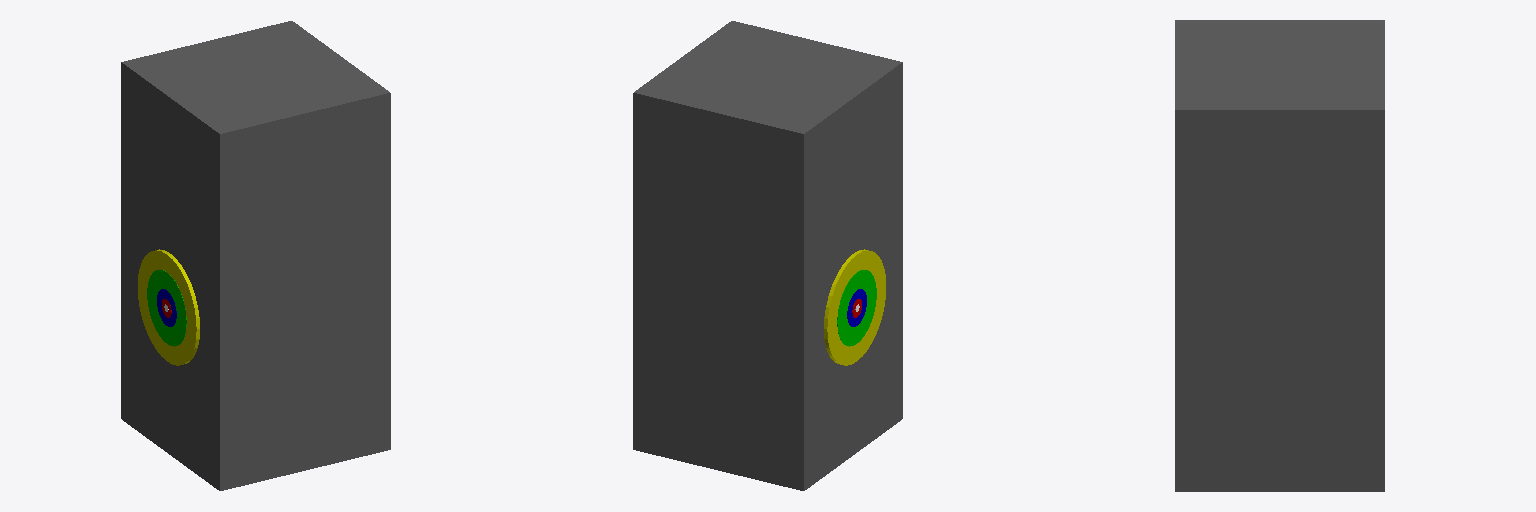
URDF robot description (simple_box):
<?xml version="1.0"?>
<robot name="simple_box">
	<material name="white">
		<color rgba="1 1 1 1"/>
	</material>

	<material name="blue">
		<color rgba= "0 0 0.8 1"/>
	</material>

	<material name="red">
		<color rgba="0.8 0 0 1"/>
	</material>

	<material name="green">
		<color rgba="0 0.8 0 1"/>
	</material>

	<material name="yellow">
		<color rgba="0.8 0.8 0 1"/>
	</material>

	<material name="cyan">
		<color rgba="0 0.8 0.8 0.8"/>
	</material>

	<material name="purple">
		<color rgba="0.8 0 0.8 1"/>
	</material>

	<material name="gray">
		<color rgba="0.4 0.4 0.4 1"/>
	</material>

	<material name="black">
		<color rgba="0 0 0 0.4"/>
	</material>

	<link name="world"/>

	<joint name="fixed" type="fixed">
		<parent link="world"/>
		<child link="base_link"/>
		<origin xyz="0 0 0"/>
	</joint>

	<link name="base_link">
		<inertial>
			<origin xyz="0 0 1" />
			<mass value="1.0" />
			<inertia  ixx="1.0" ixy="0.0"  ixz="0.0"  iyy="100.0"  iyz="0.0"  izz="1.0" />
		</inertial>
		<visual>
			<origin xyz="0 0 1"/>
			<geometry>
				<box size="1 1 2" />
			</geometry>
			<material name="gray"/>
		</visual>
		<collision>
			<origin xyz="0 0 0.25"/>
			<geometry>
				<box size="1 1 0.5" />
			</geometry>
		</collision>
	</link>

	<joint name="joint_button" type="fixed">
		<parent link="base_link"/>
		<child link="button"/>
		<origin xyz="-0.50 0 0.83"/>
	</joint>

	<link name="button">
		<inertial>
			<origin xyz="0 0 0" />
			<mass value="1.0" />
			<inertia  ixx="1.0" ixy="0.0"  ixz="0.0"  iyy="100.0"  iyz="0.0"  izz="1.0" />
		</inertial>
		<visual>
			<origin xyz="0 0 0" rpy="0 1.57075 0"/>
			<geometry>
				<cylinder length="0.05" radius="0.02" />
			</geometry>
			<material name="white"/>
		</visual>
		<!--collision>
			<origin xyz="0 0 0" rpy="0 1.57075 0"/>
			<geometry>
				<box size="1 1 2" />
			</geometry>
		</collision-->
	</link>

	<joint name="joint_circle1" type="fixed">
		<parent link="base_link"/>
		<child link="circle1"/>
		<origin xyz="-0.499 0 0.83"/>
	</joint>

	<link name="circle1">
		<inertial>
			<origin xyz="0 0 0" />
			<mass value="1.0" />
			<inertia  ixx="1.0" ixy="0.0"  ixz="0.0"  iyy="100.0"  iyz="0.0"  izz="1.0" />
		</inertial>
		<visual>
			<origin xyz="0 0 0" rpy="0 1.57075 0"/>
			<geometry>
				<cylinder length="0.05" radius="0.05" />
			</geometry>
			<material name="red"/>
		</visual>
		<!--collision>
			<origin xyz="0 0 0" rpy="0 1.57075 0"/>
			<geometry>
				<box size="1 1 2" />
			</geometry>
		</collision-->
	</link>

	<joint name="joint_circle2" type="fixed">
		<parent link="base_link"/>
		<child link="circle2"/>
		<origin xyz="-0.498 0 0.83"/>
	</joint>

	<link name="circle2">
		<inertial>
			<origin xyz="0 0 0" />
			<mass value="1.0" />
			<inertia  ixx="1.0" ixy="0.0"  ixz="0.0"  iyy="100.0"  iyz="0.0"  izz="1.0" />
		</inertial>
		<visual>
			<origin xyz="0 0 0" rpy="0 1.57075 0"/>
			<geometry>
				<cylinder length="0.05" radius="0.1" />
			</geometry>
			<material name="blue"/>
		</visual>
		<!--collision>
			<origin xyz="0 0 0" rpy="0 1.57075 0"/>
			<geometry>
				<box size="1 1 2" />
			</geometry>
		</collision-->
	</link>

	<joint name="joint_circle3" type="fixed">
		<parent link="base_link"/>
		<child link="circle3"/>
		<origin xyz="-0.497 0 0.83"/>
	</joint>

	<link name="circle3">
		<inertial>
			<origin xyz="0 0 0" />
			<mass value="1.0" />
			<inertia  ixx="1.0" ixy="0.0"  ixz="0.0"  iyy="100.0"  iyz="0.0"  izz="1.0" />
		</inertial>
		<visual>
			<origin xyz="0 0 0" rpy="0 1.57075 0"/>
			<geometry>
				<cylinder length="0.05" radius="0.2" />
			</geometry>
			<material name="green"/>
		</visual>
		<!--collision>
			<origin xyz="0 0 0" rpy="0 1.57075 0"/>
			<geometry>
				<box size="1 1 2" />
			</geometry>
		</collision-->
	</link>
	
	<joint name="joint_circle4" type="fixed">
		<parent link="base_link"/>
		<child link="circle4"/>
		<origin xyz="-0.496 0 0.83"/>
	</joint>

	<link name="circle4">
		<inertial>
			<origin xyz="0 0 0" />
			<mass value="1.0" />
			<inertia  ixx="1.0" ixy="0.0"  ixz="0.0"  iyy="100.0"  iyz="0.0"  izz="1.0" />
		</inertial>
		<visual>
			<origin xyz="0 0 0" rpy="0 1.57075 0"/>
			<geometry>
				<cylinder length="0.05" radius="0.3" />
			</geometry>
			<material name="yellow"/>
		</visual>
		<!--collision>
			<origin xyz="0 0 0" rpy="0 1.57075 0"/>
			<geometry>
				<box size="1 1 2" />
			</geometry>
		</collision-->
	</link>


	<gazebo reference="base_link">
		<material>Gazebo/Grey</material>
		<mu1>1.0</mu1>
		<mu2>1.0</mu2>
	</gazebo>
	
	<gazebo reference="button">
		<!-- <material>Gazebo/White</material> -->
		<mu1>1.0</mu1>
		<mu2>1.0</mu2>
	</gazebo>

	<gazebo reference="circle1">
		<material>Gazebo/Red</material>
		<mu1>1.0</mu1>
		<mu2>1.0</mu2>
	</gazebo>
	<gazebo reference="circle2">
		<material>Gazebo/Blue</material>
		<mu1>1.0</mu1>
		<mu2>1.0</mu2>
	</gazebo>
	<gazebo reference="circle3">
		<material>Gazebo/Green</material>
		<mu1>1.0</mu1>
		<mu2>1.0</mu2>
	</gazebo>
	<gazebo reference="circle4">
		<material>Gazebo/Yellow</material>
		<mu1>1.0</mu1>
		<mu2>1.0</mu2>
	</gazebo>
</robot>

--- Facts derived from the render (not from the file) ---
Views: 3 orthographic renders of the robot side by side, from view 1: azimuth 30°, elevation 25°; view 2: azimuth 150°, elevation 25°; view 3: azimuth 270°, elevation 25°.
Robot: simple_box — 7 links, 6 joints (6 fixed); root link world; default pose: every joint at zero.
Visible links, largest first — view 1: base_link, circle4, circle3; view 2: base_link, circle4, circle3; view 3: base_link.
Link boxes in pixels (box(x1,y1,x2,y2)): base_link: box(121, 21, 390, 490); circle4: box(138, 249, 199, 365); circle3: box(147, 270, 186, 346); base_link: box(633, 21, 902, 490); circle4: box(824, 249, 885, 365); circle3: box(837, 270, 876, 346); base_link: box(1175, 20, 1384, 491).
Size in the robot's own frame: 1.02 by 1 by 2 metres.
Geometry: primitives only (box / cylinder / sphere), no mesh files.